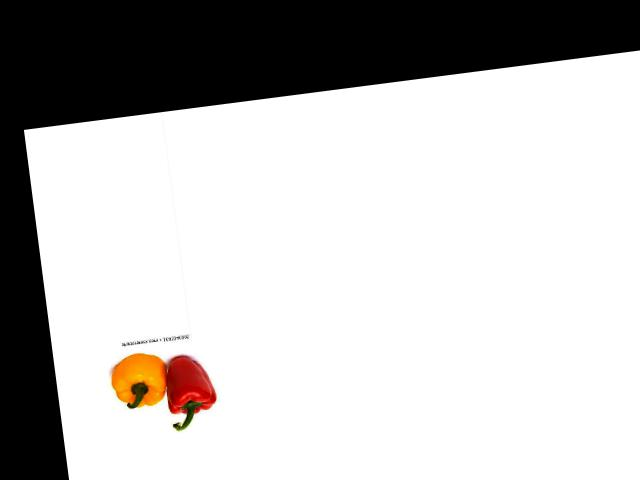bell_pepper: (105, 345, 173, 415)
